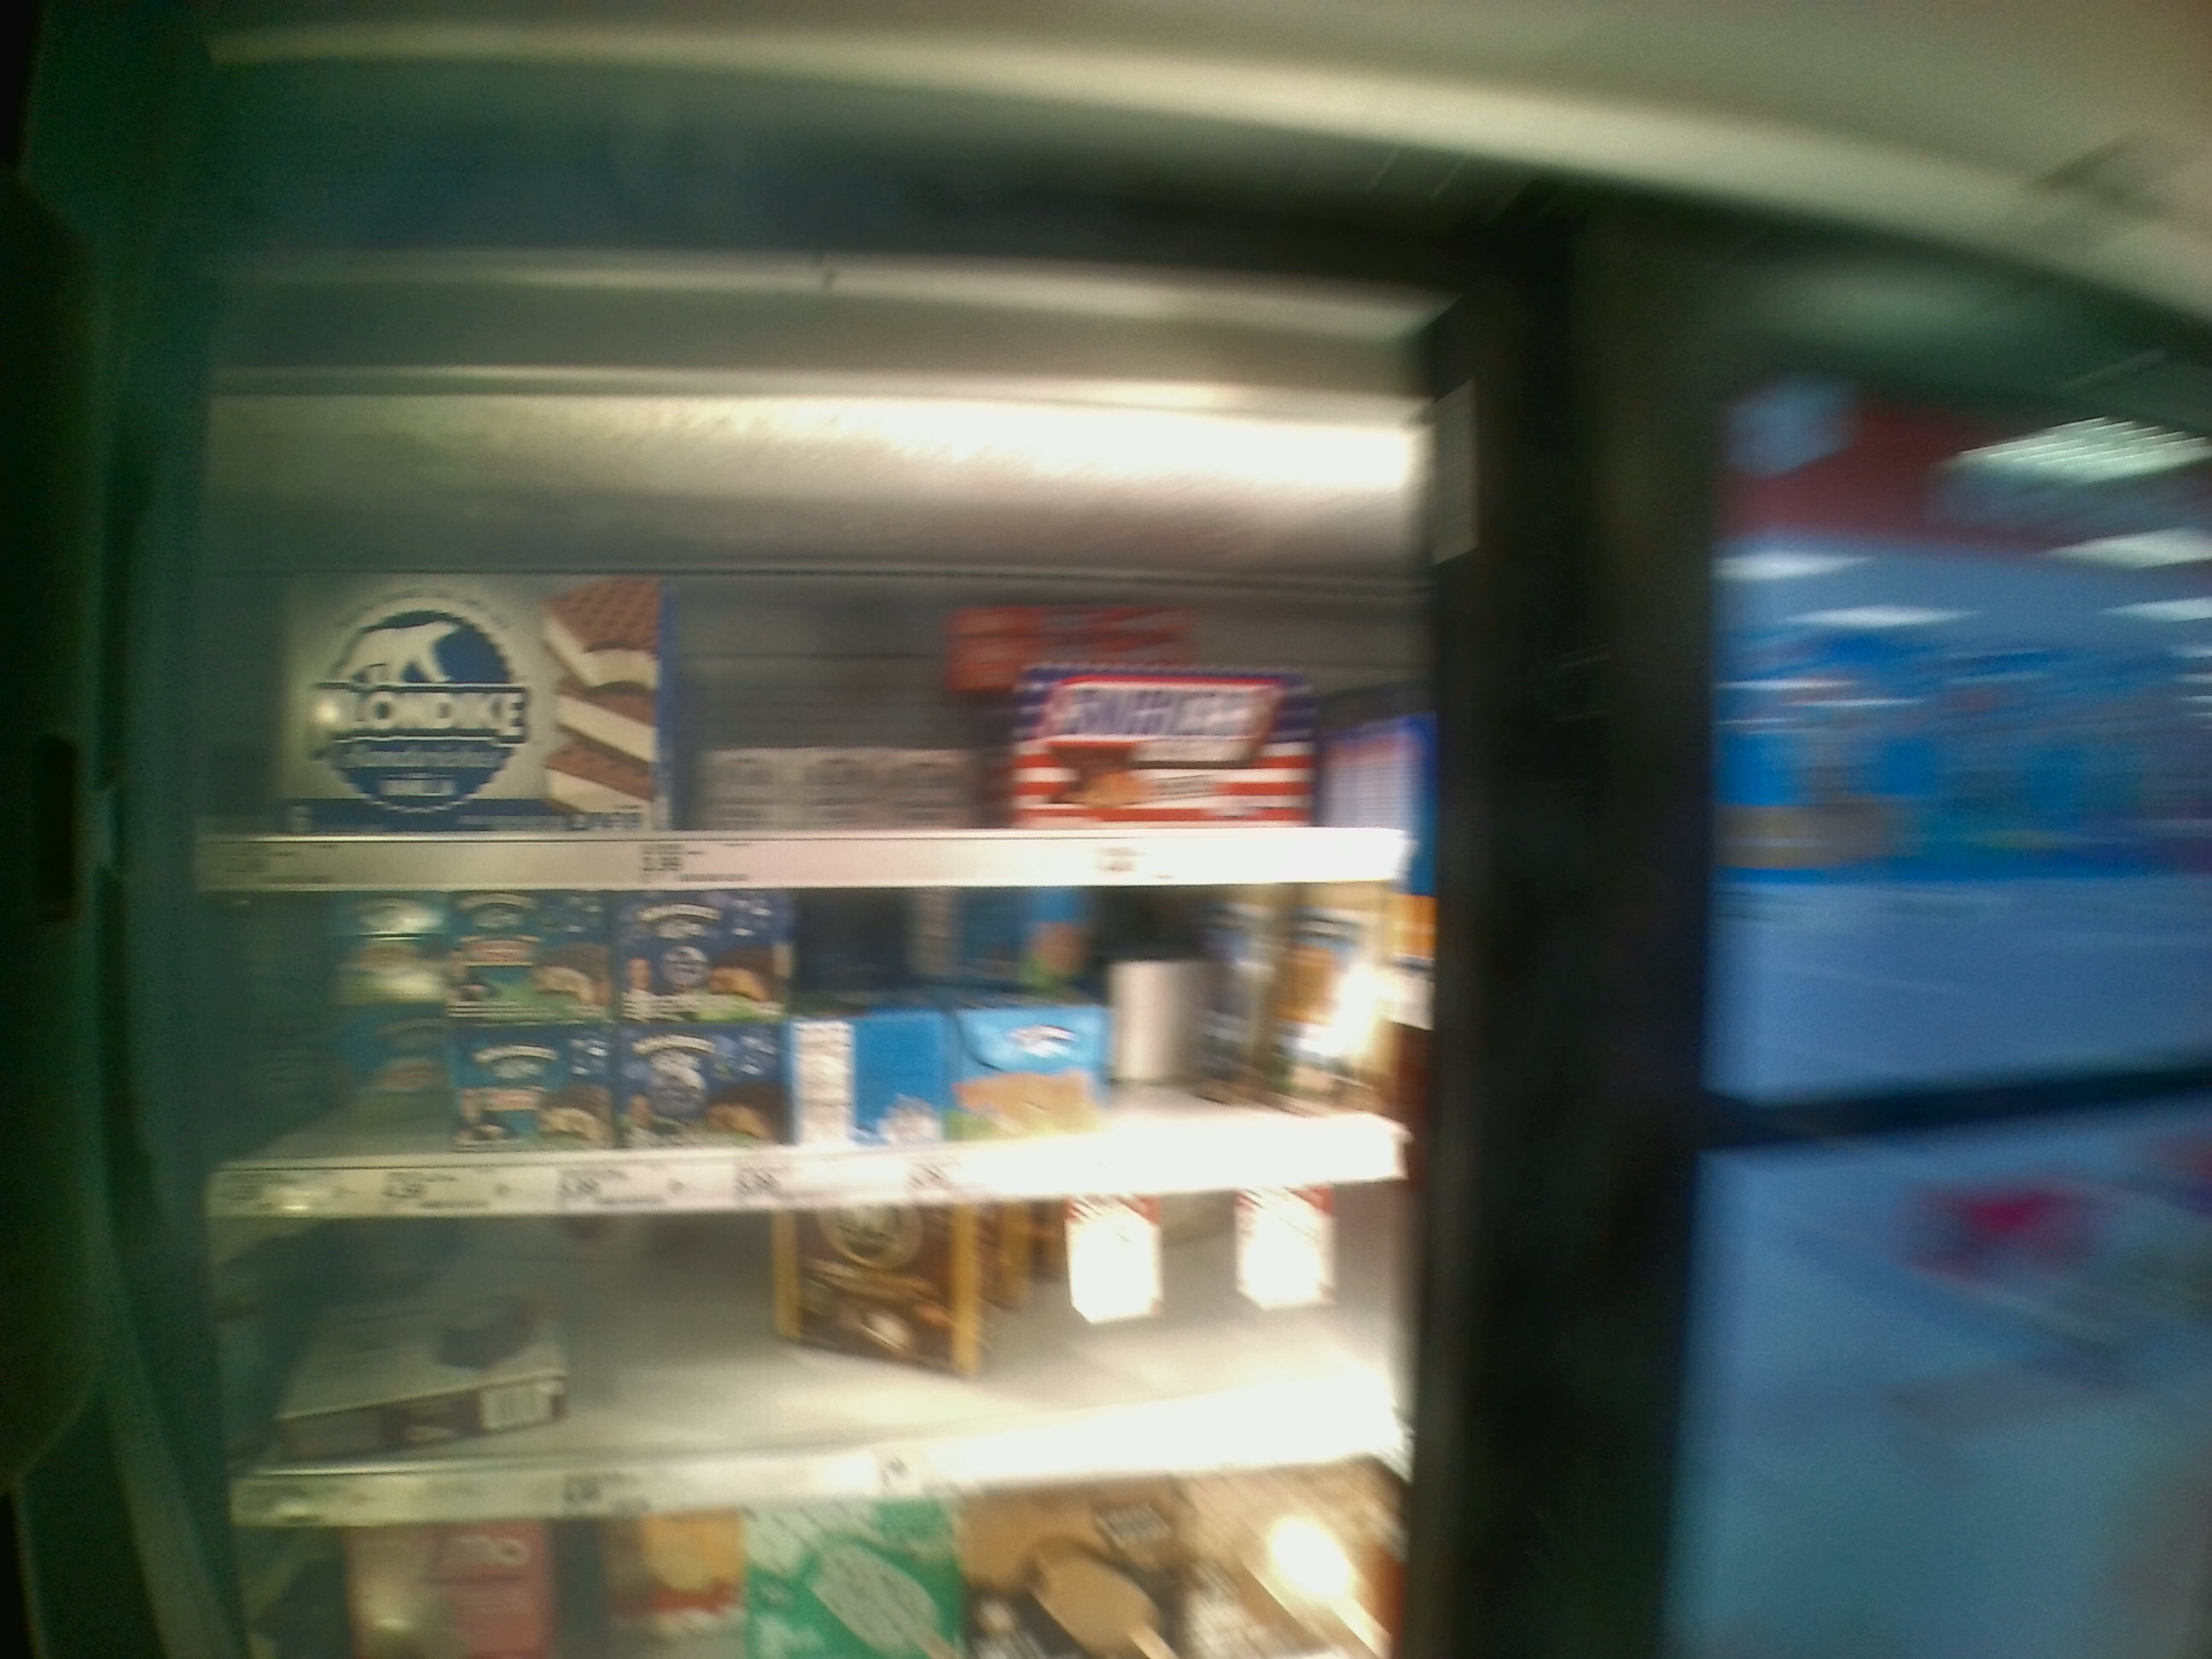shelf: (211, 467, 1423, 884), (204, 882, 1433, 1211), (204, 1202, 1439, 1525)
